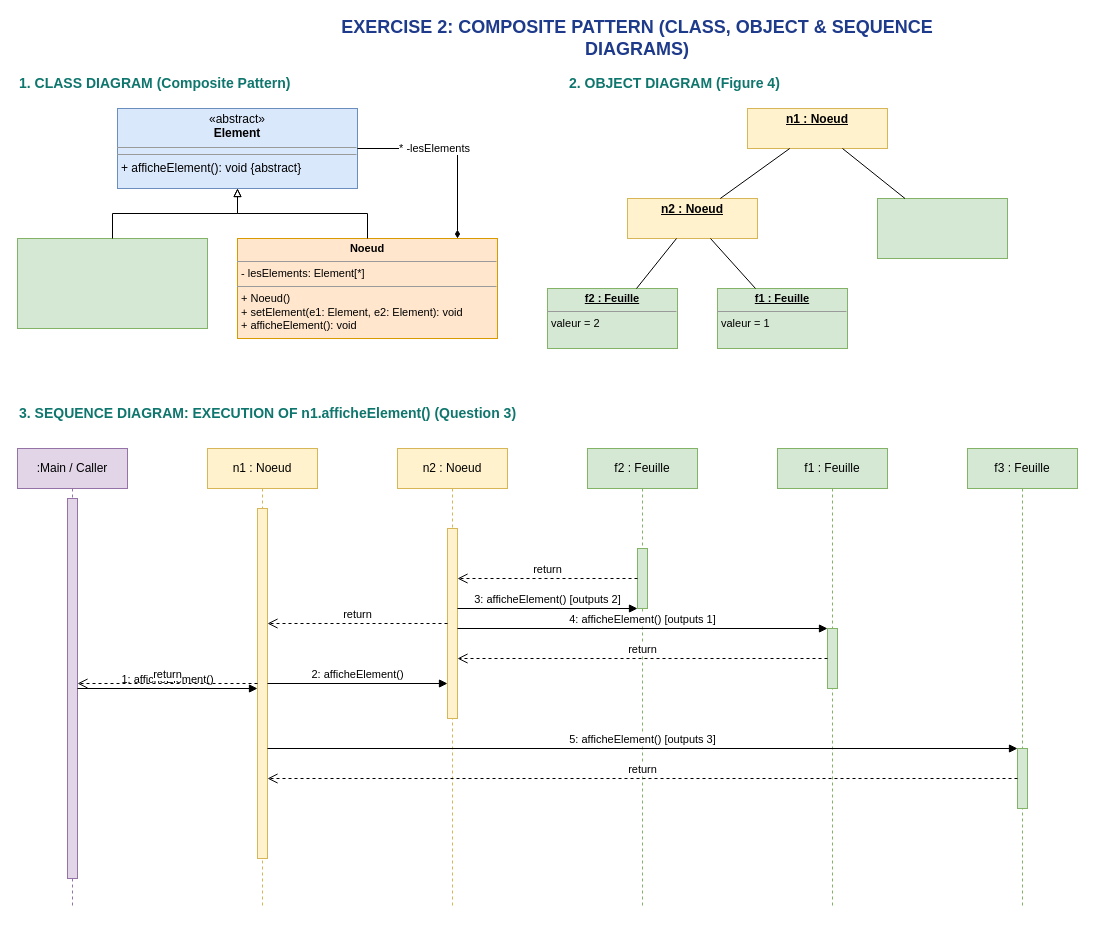
This 1095x926 diagram has some shape labels left out. Each missing label, with the centre of its shape:
f3 : Feuille valeur = 3: [942,228]
Feuille - valeur: int + Feuille(uneValeur: int) + afficheElement(): void: [112,283]
